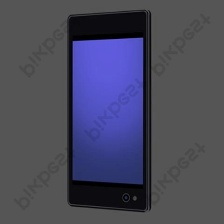phone: (63, 7, 154, 215)
